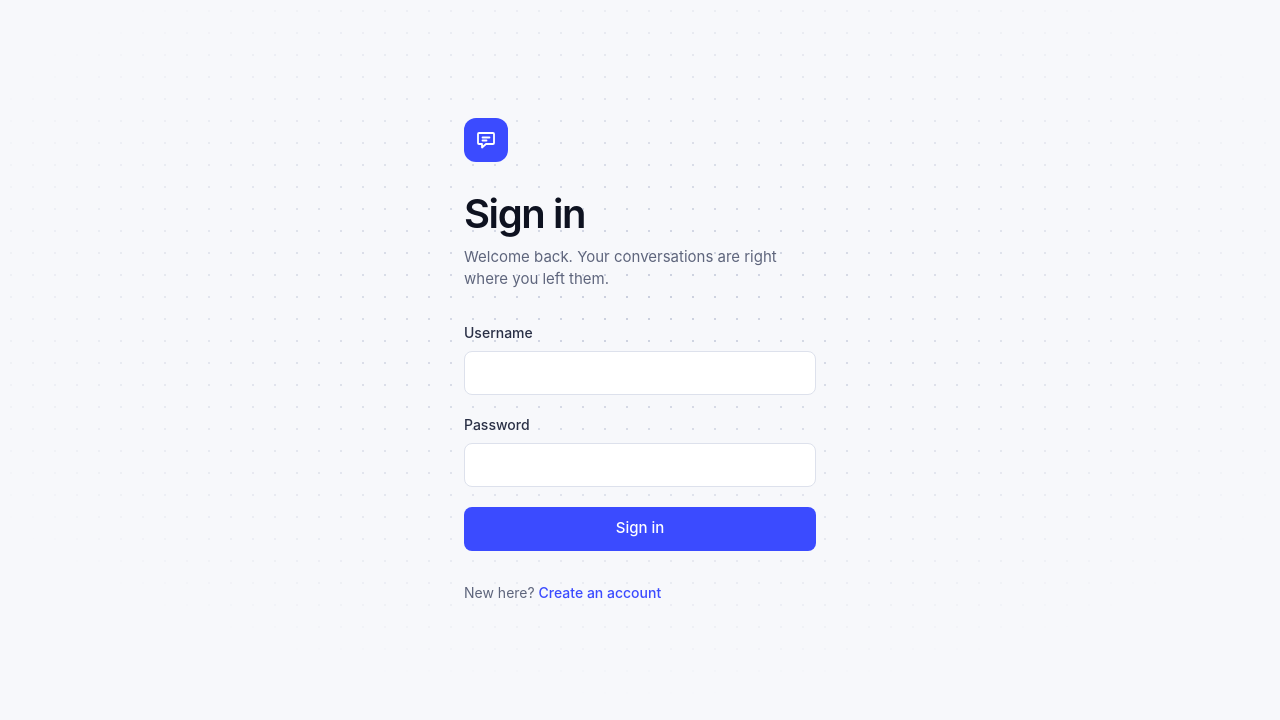
LoginPage › displays an error when login fails
Type "john" into the field labelled "Username" at (640, 372), box [464,350,816,394]
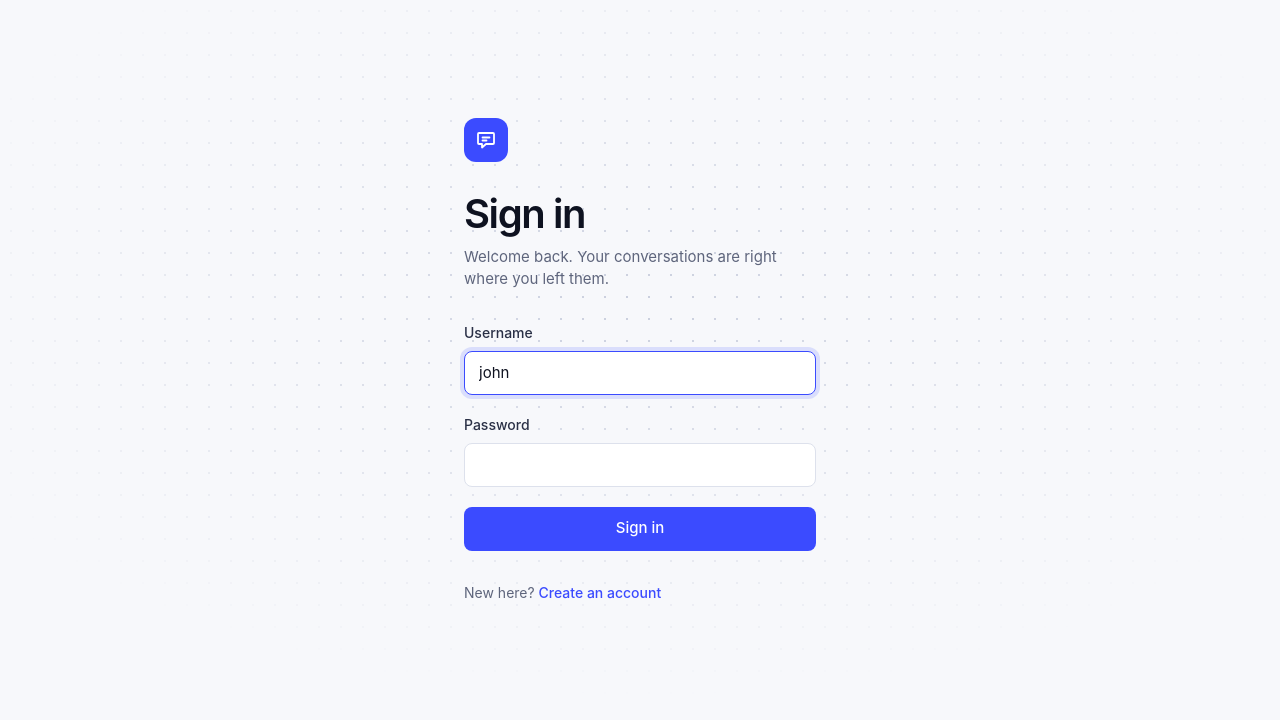
Type "wrong-password" into the password field labelled "Password" at (640, 464), box [464,442,816,486]
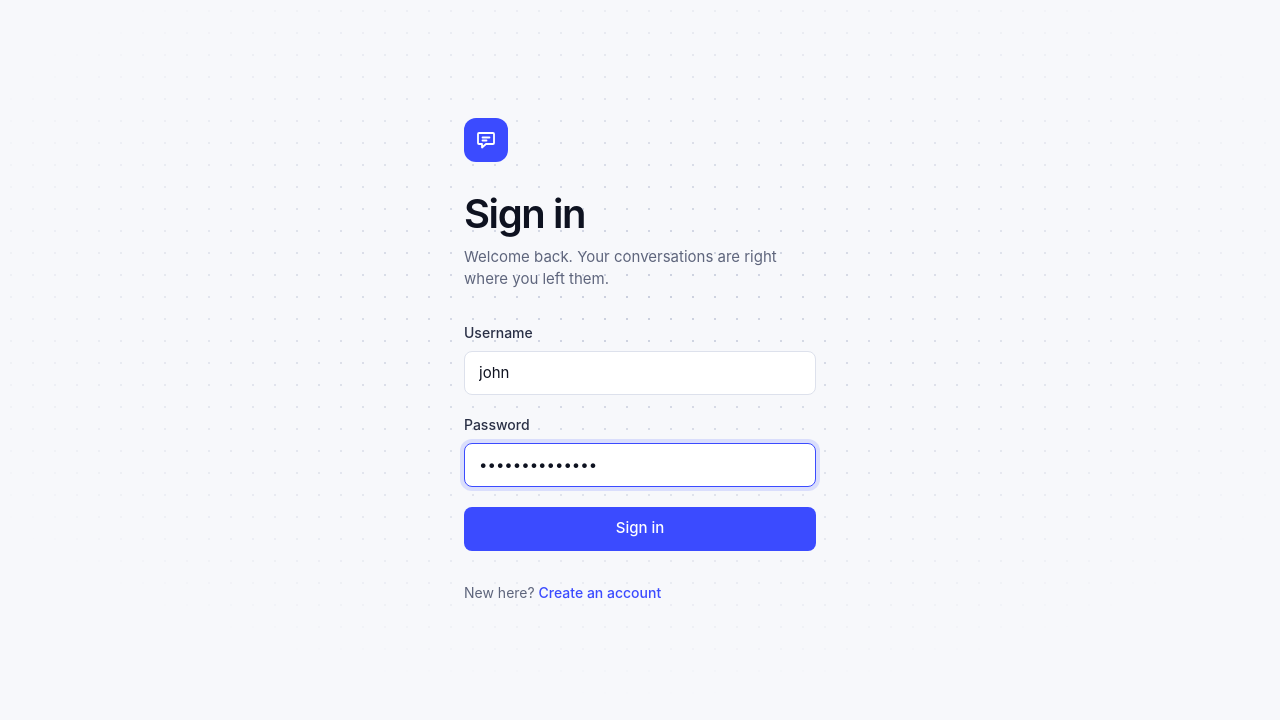
Click the button "Sign in" at (640, 528), box [464,506,816,550]
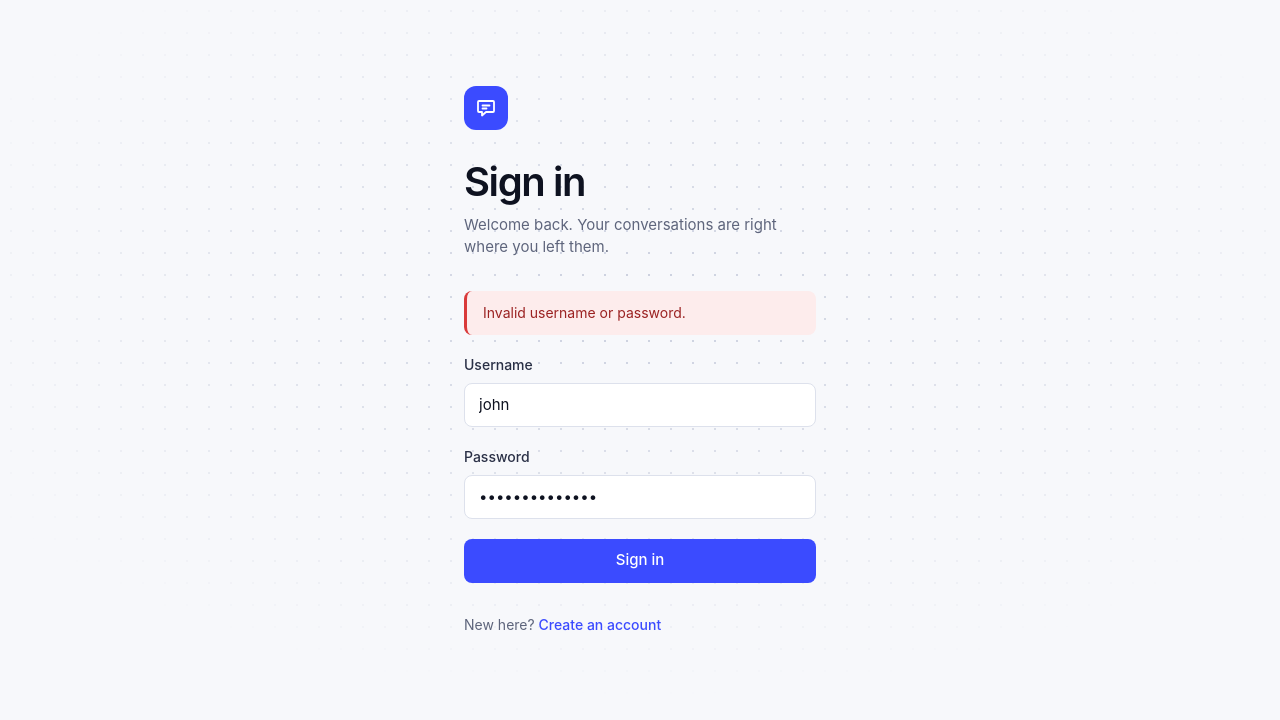
Expected: the message reads "Invalid username or password.", [483,304,686,320]
